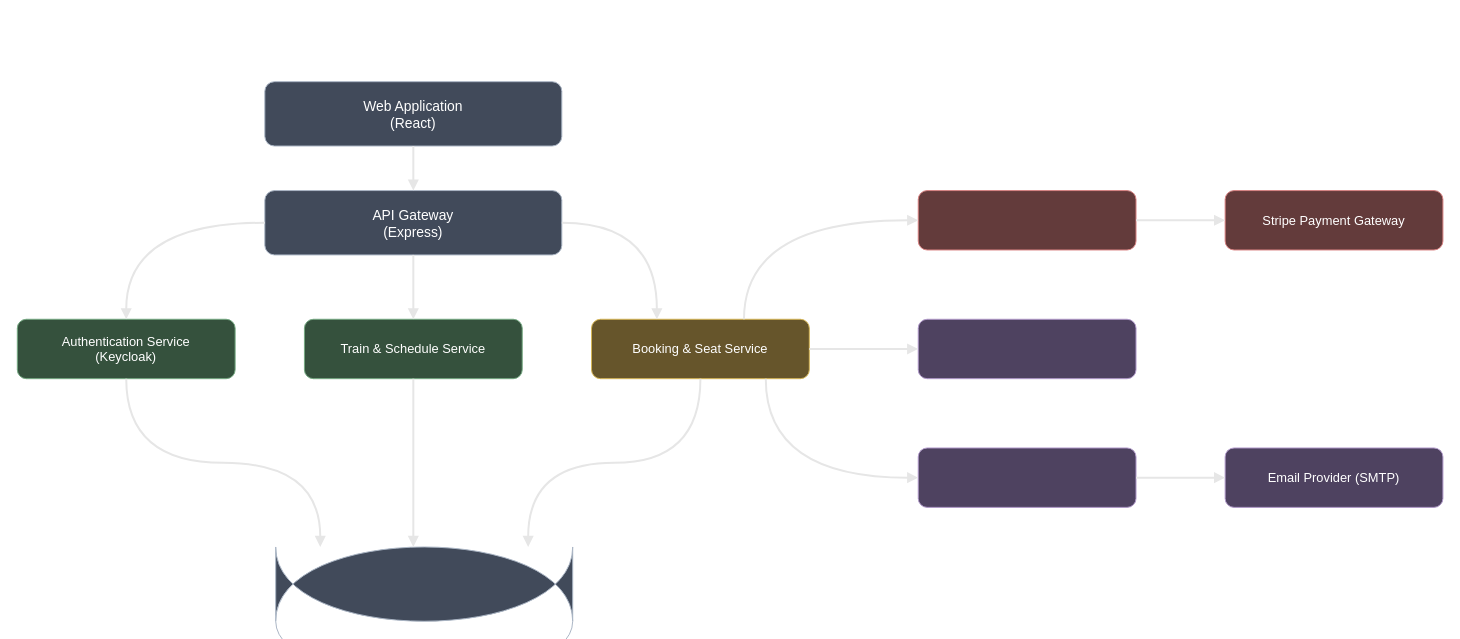
This 1460x639 diagram has some shape labels left out. Each missing label, with the centre of its shape:
Notification Service: pixel 1026 477
Oracle Database: pixel 424 583
Payment Service: pixel 1026 220
Ticket Service: pixel 1026 348
